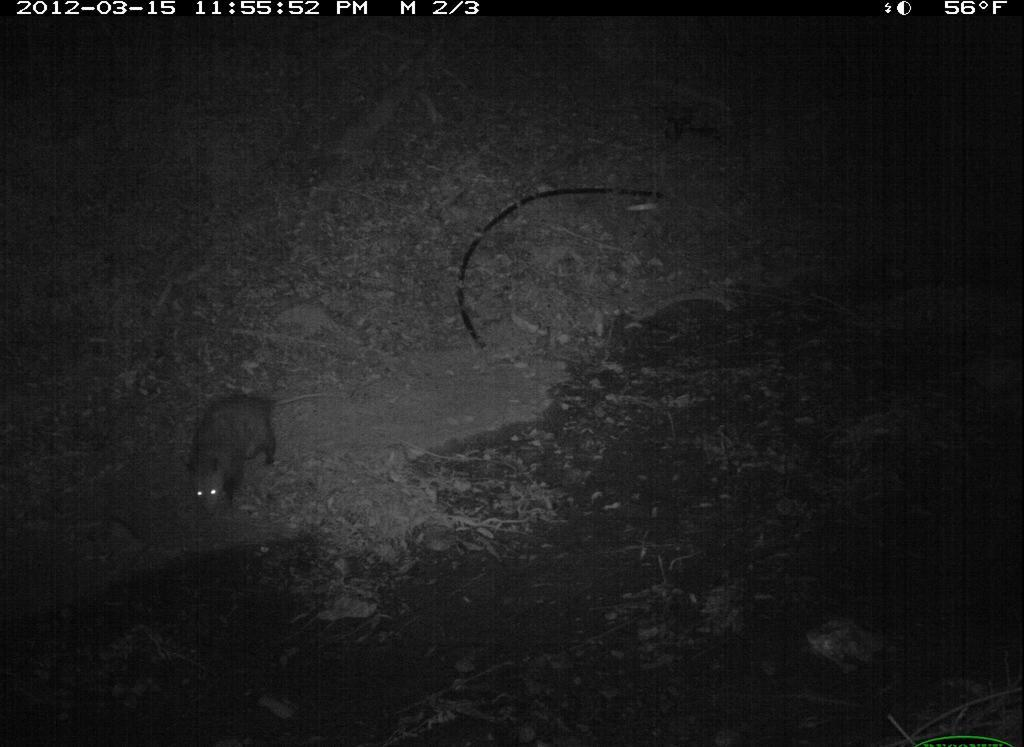opossum: (181, 376, 304, 514)
